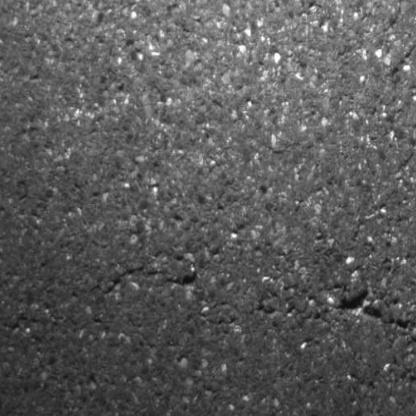Cracks: (331, 293, 416, 334)
